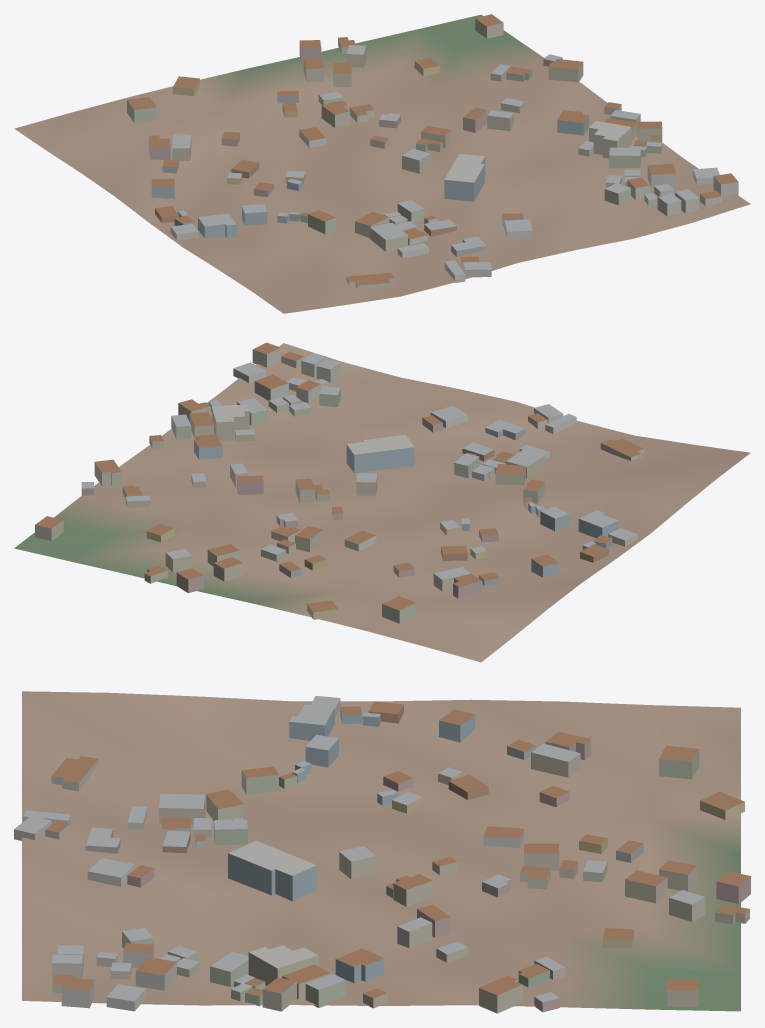
3 views of the same model, one above another, from view 1: azimuth 30°, elevation 25°; view 2: azimuth 150°, elevation 25°; view 3: azimuth 270°, elevation 25° (orthographic). The views are drawn at different scales.
Visible parts, largest first — view 1: Lo; view 2: Lo; view 3: Lo.
Part boxes in pixels (x1,y1,x2,y2): Lo: (14,14,750,313); Lo: (14,342,750,662); Lo: (14,691,750,1013).
Size of the model in its own units: 262 by 12.91 by 262.
